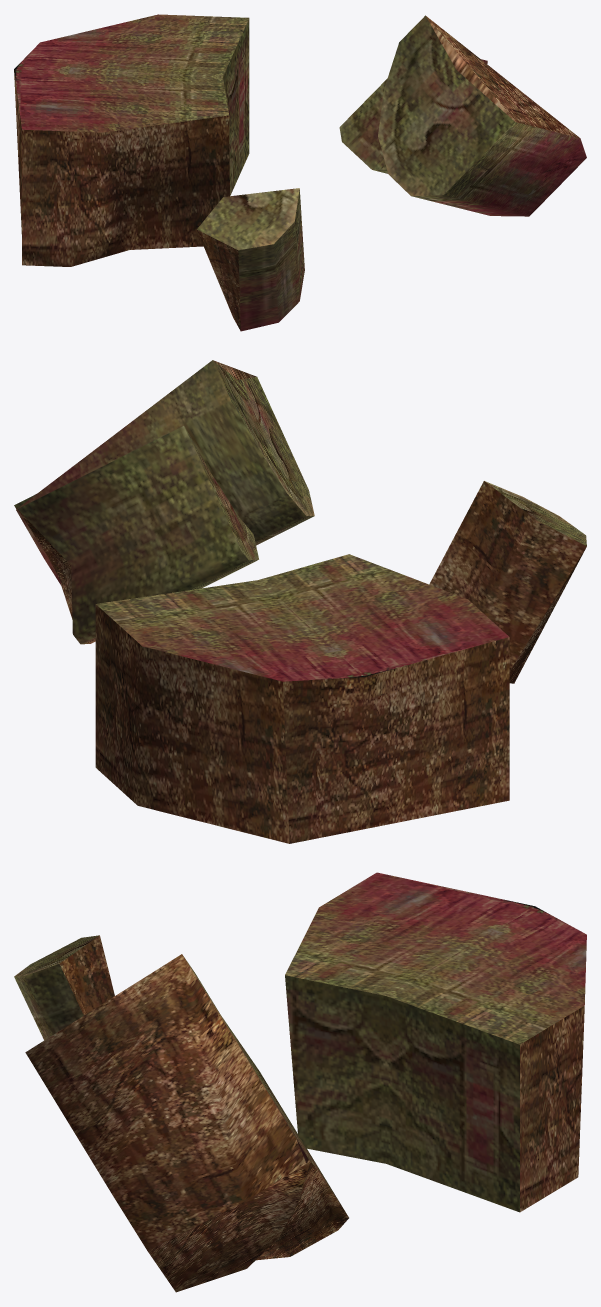
The model's file is fortressa_wall_bk02.fbx.
3 views of the same model, one above another, from view 1: azimuth 30°, elevation 25°; view 2: azimuth 150°, elevation 25°; view 3: azimuth 270°, elevation 25° (orthographic). The views are drawn at different scales.
Parts seen in each view (by area): view 1: fortressA_wall_bk02; view 2: fortressA_wall_bk02; view 3: fortressA_wall_bk02.
Part boxes in pixels (left/top/right/bottom): fortressA_wall_bk02: left=14, top=14, right=586, bottom=331; fortressA_wall_bk02: left=14, top=360, right=586, bottom=843; fortressA_wall_bk02: left=14, top=872, right=586, bottom=1292.
Bounding box in the file's own units: 4.93 × 2.39 × 4.18.
